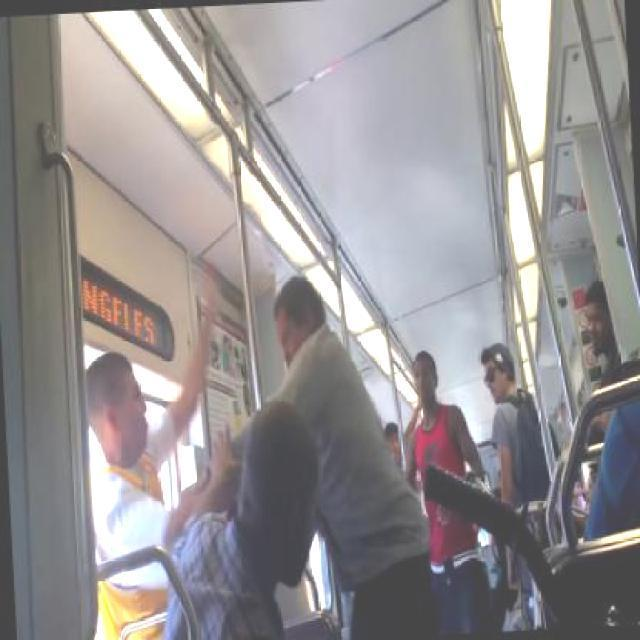fight: (82, 266, 430, 637)
non-fight: (474, 337, 560, 497)
